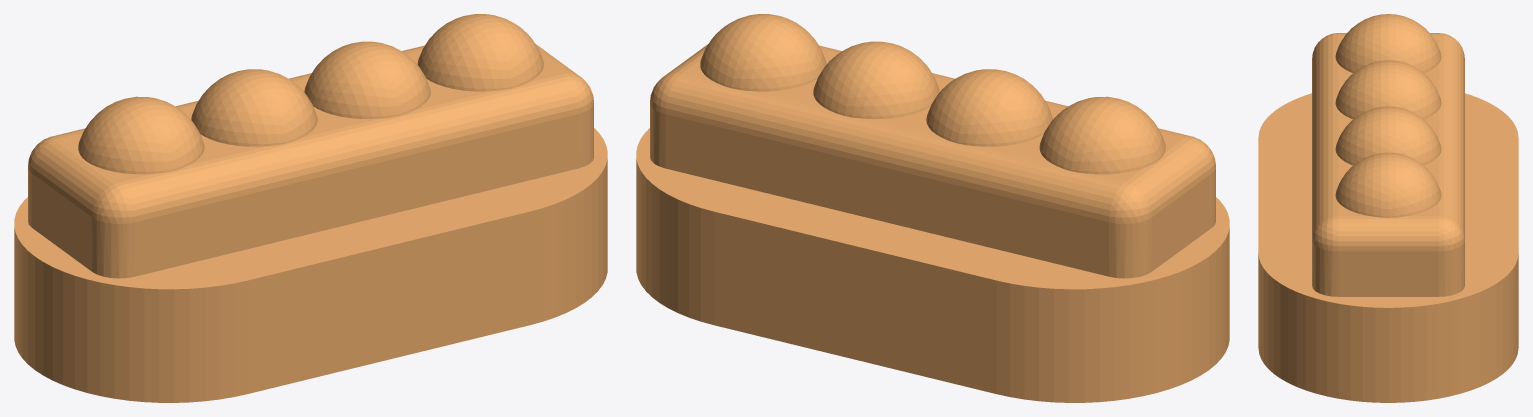
The model's file is racer-light-bar.glb.
3 renders of one model, left to right at view 1: azimuth 30°, elevation 25°; view 2: azimuth 150°, elevation 25°; view 3: azimuth 270°, elevation 25°, orthographic. The views are drawn at different scales.
Visible parts, largest first — view 1: racer-light-bar; view 2: racer-light-bar; view 3: racer-light-bar.
Part boxes in pixels (left/top/right/bottom): racer-light-bar: left=14, top=14, right=607, bottom=402; racer-light-bar: left=636, top=14, right=1229, bottom=402; racer-light-bar: left=1258, top=14, right=1518, bottom=402.
Size of the model in its own units: 0.0244 by 0.0102 by 0.0119.
